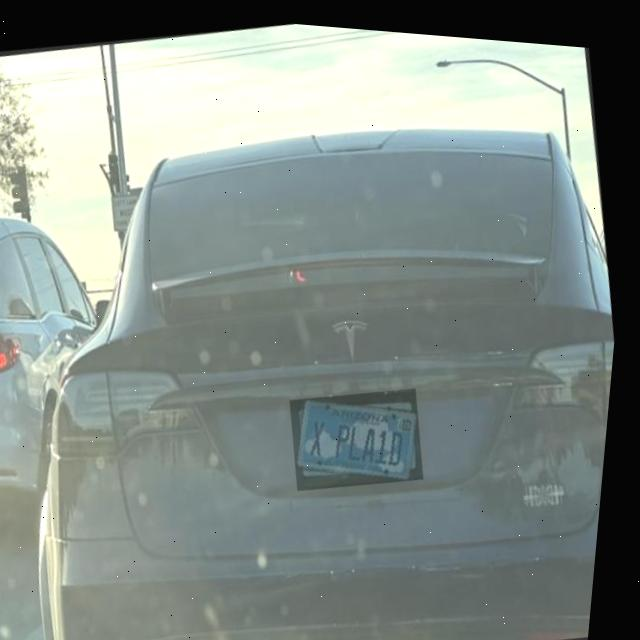LicensePlate: (304, 392, 425, 473)
